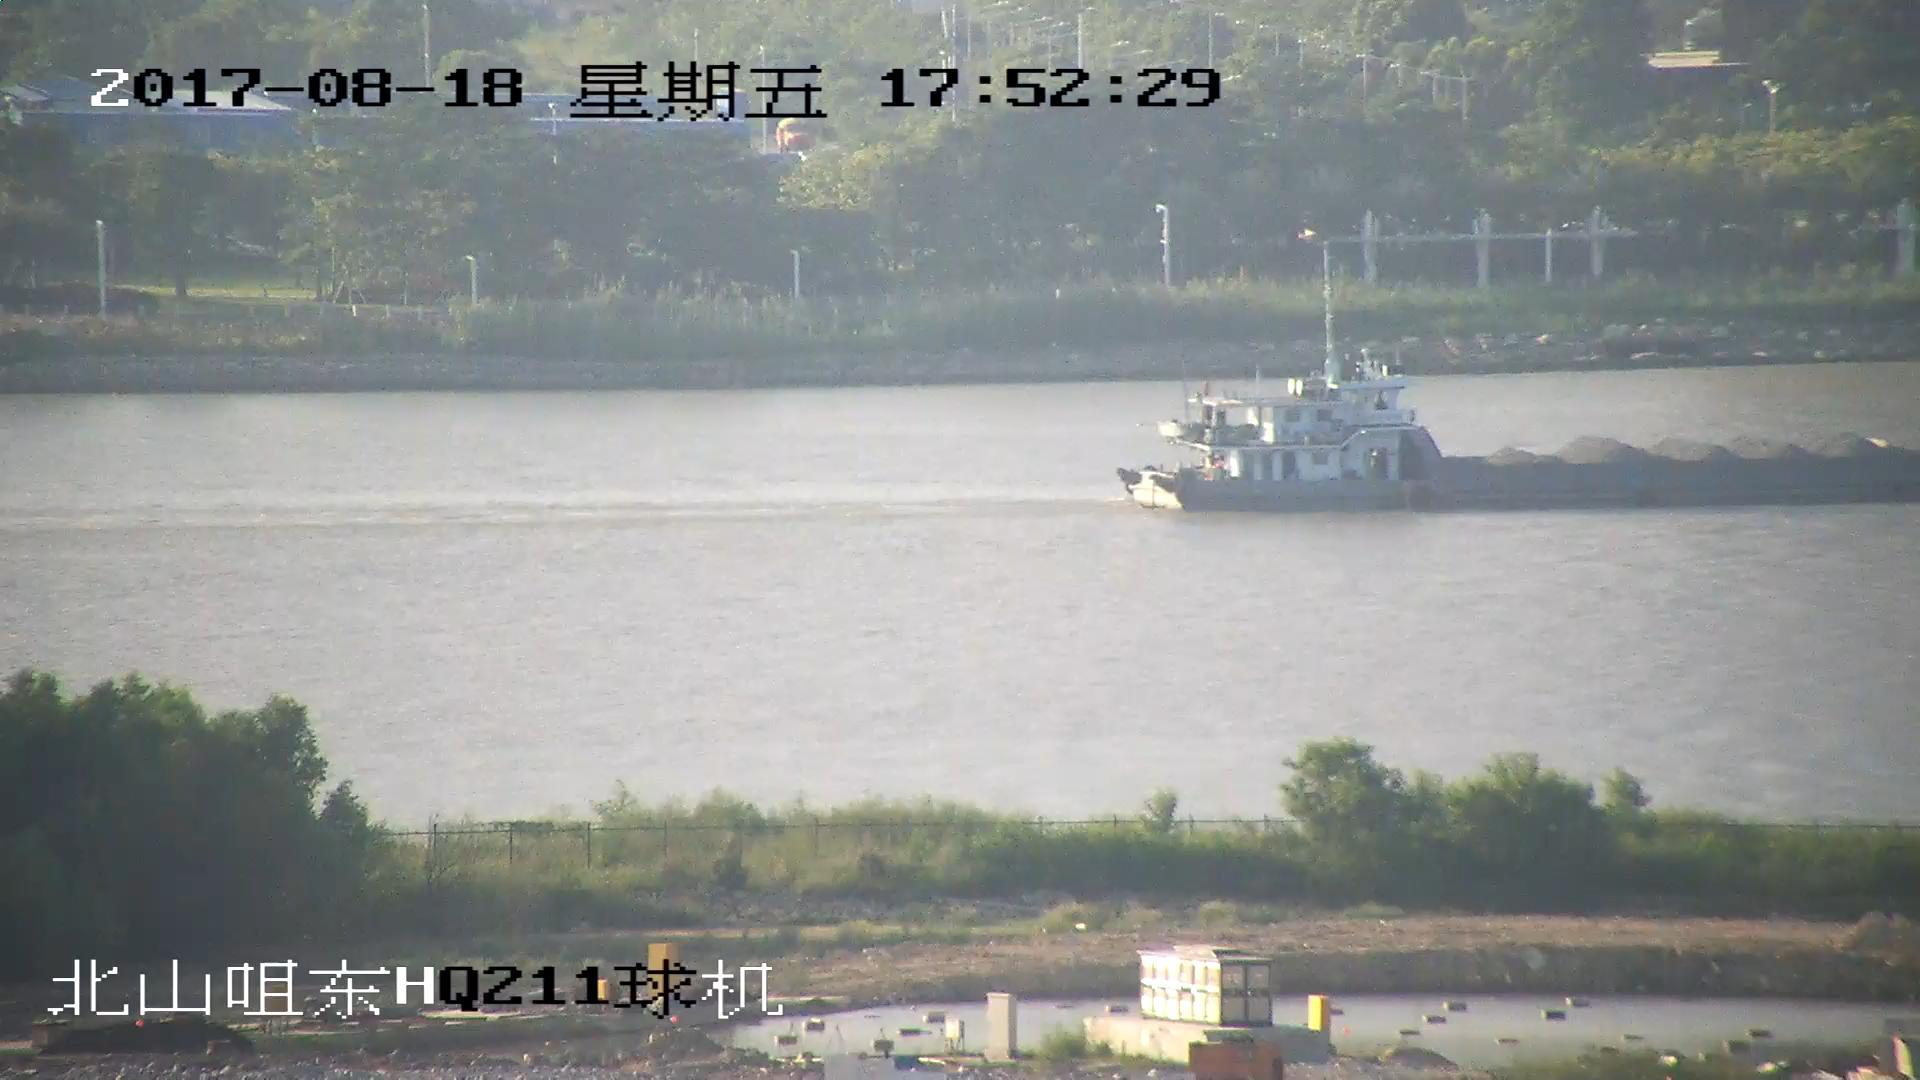Ship: (1118, 278, 1920, 516)
